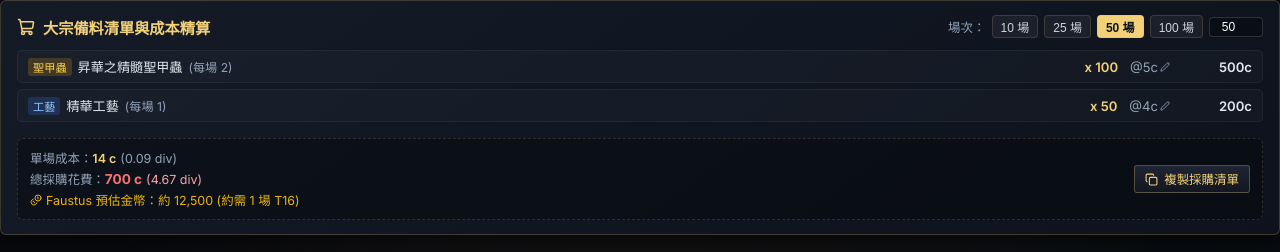
Test case: AtlasBulkShoppingCard › changes run count when preset button clicked
Step 1. Click the button "10 場" → (1015, 26), box [992, 15, 1038, 38]
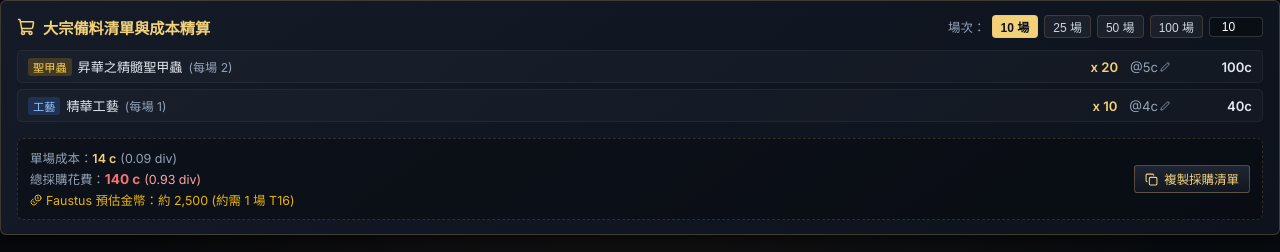
Expected: the text "x 20" is shown, [1090, 58, 1118, 74]
